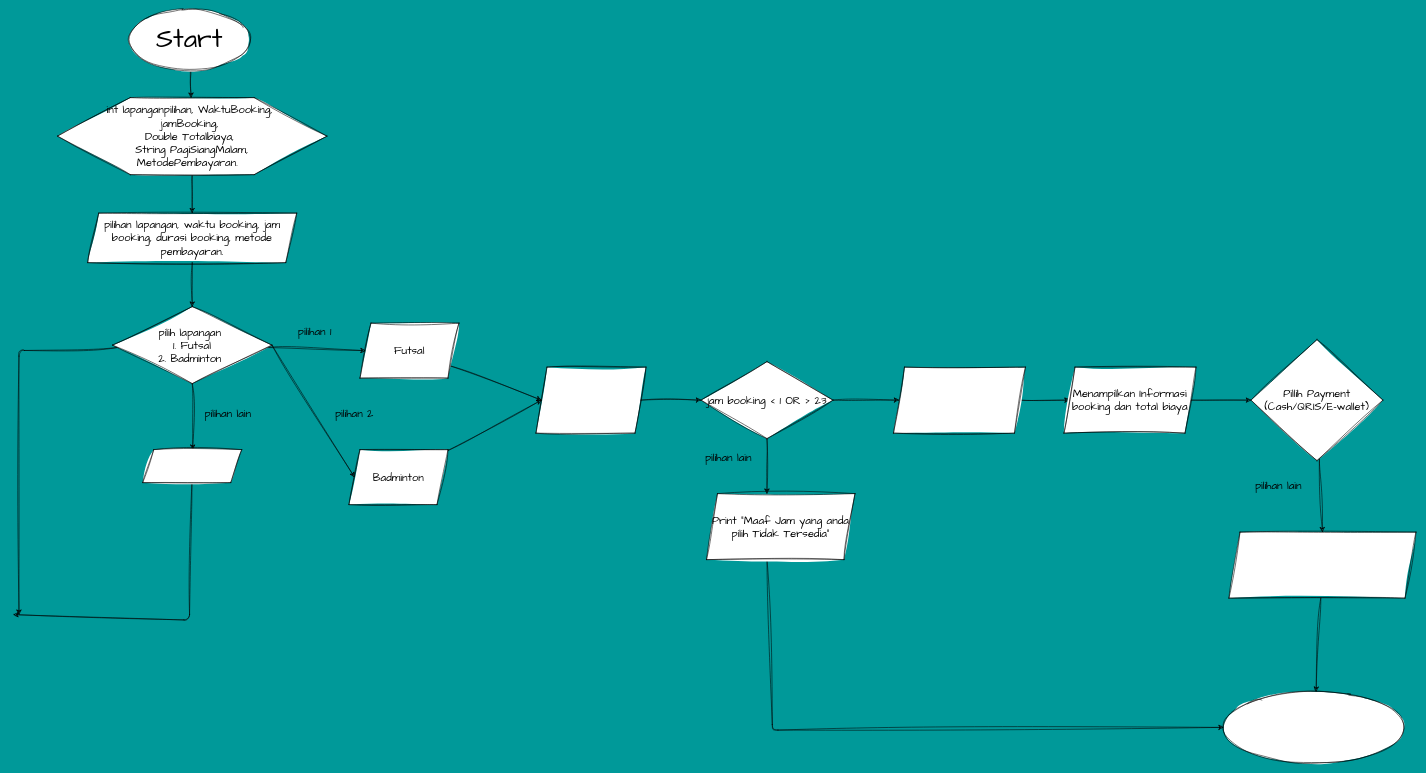
Image size: 1426x773. Some labels were removed from this diagram. Here are the shapes that lost their labels. From the top down, the box of each, then its label:
(535, 367, 646, 433): Pilih waktu booking
(893, 367, 1025, 433): Menghitung total Biaya
(142, 449, 242, 483): Pilihan tidak valid
(1228, 532, 1416, 598): Print "Metode Pembayaran Tidak Valid"
(1223, 691, 1405, 763): End
